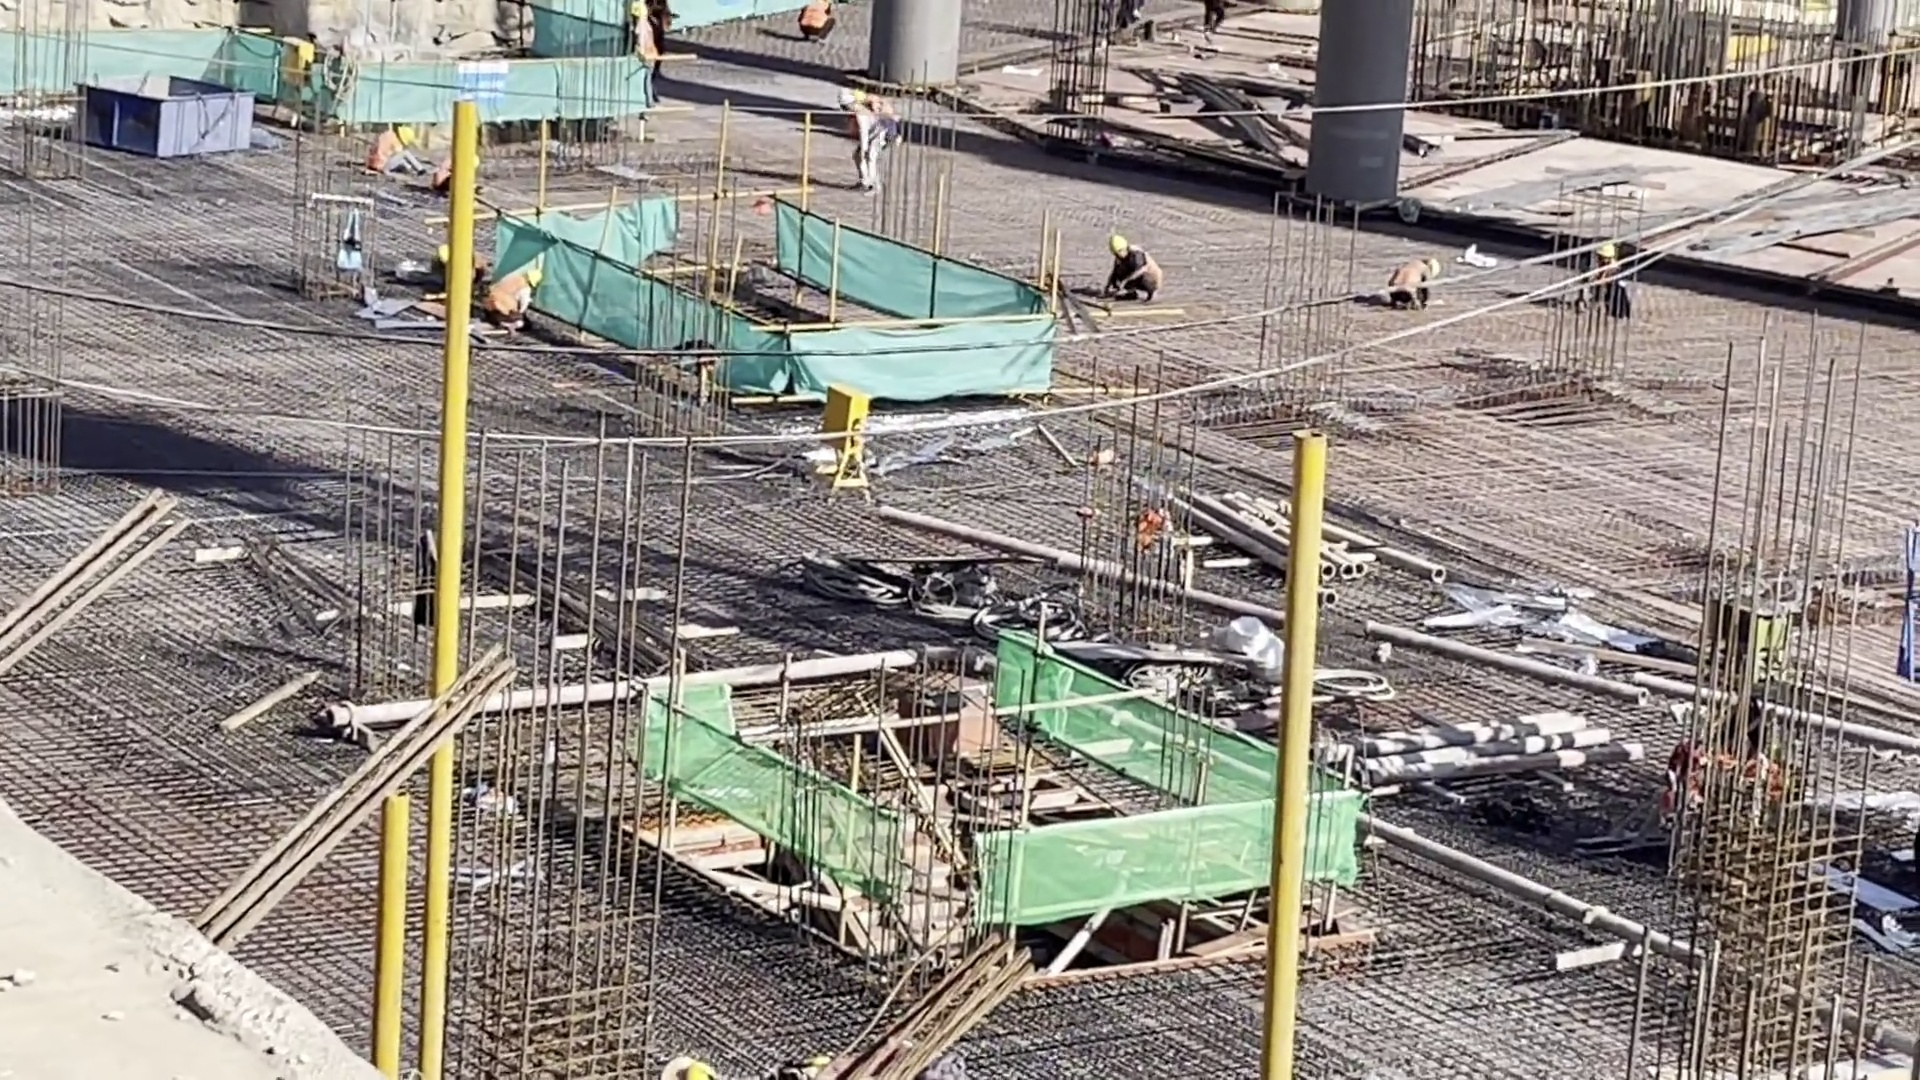ebox: (821, 387, 870, 480), (277, 43, 316, 93)
helmet: (1107, 233, 1127, 253), (397, 126, 414, 148), (525, 268, 540, 290), (1598, 243, 1616, 260)
hopper: (81, 79, 256, 154)
person: (833, 89, 893, 191), (1102, 234, 1163, 306), (486, 268, 544, 331), (371, 122, 425, 183), (1392, 254, 1440, 311), (798, 1, 839, 42)
slogan: (458, 53, 512, 110)
vest: (489, 276, 523, 316), (1393, 257, 1425, 292), (373, 130, 400, 172), (1128, 249, 1158, 280), (804, 6, 832, 28)
